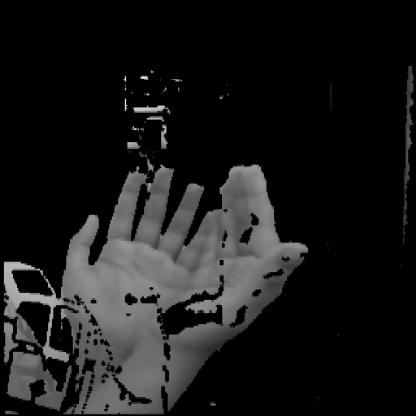dua: (37, 144, 321, 376)
